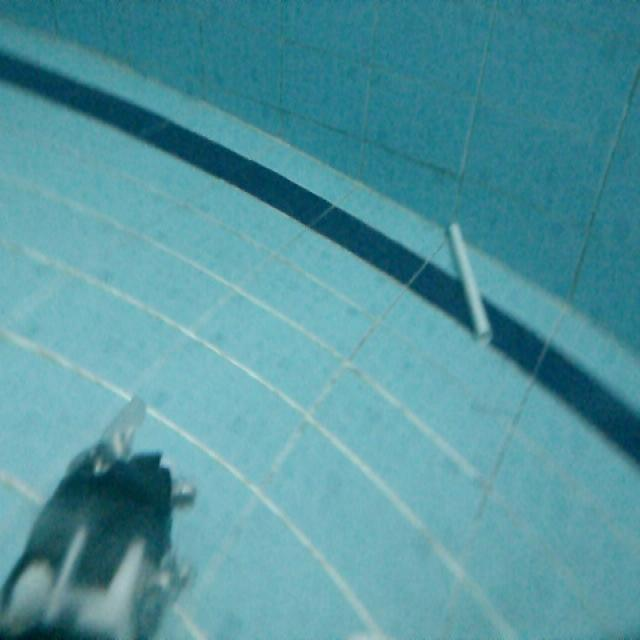Cube: (442, 218, 494, 349)
